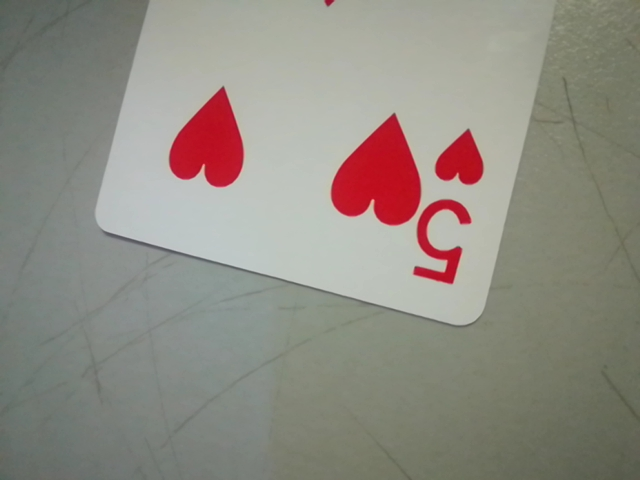hx 5: (408, 112, 493, 302)
